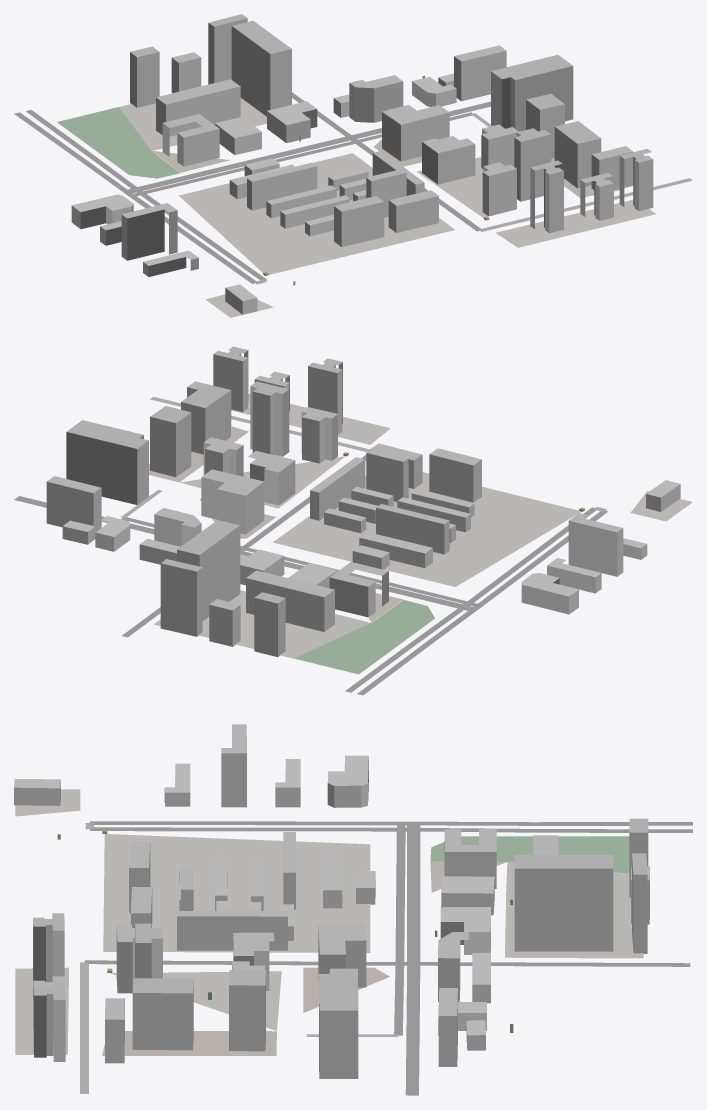
3 renders of one model, top to bottom at view 1: azimuth 30°, elevation 25°; view 2: azimuth 150°, elevation 25°; view 3: azimuth 270°, elevation 25°, orthographic. The views are drawn at different scales.
Size of the model in its own units: 597 by 73.82 by 540.
